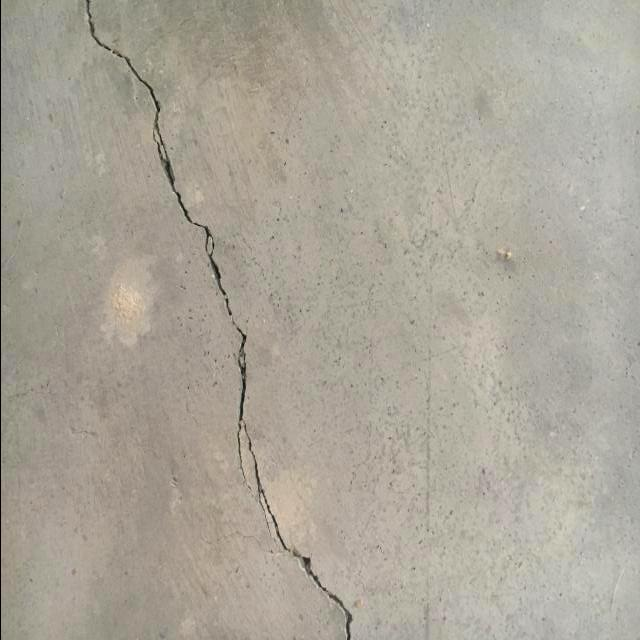SurfaceCrack: (60, 1, 384, 640)
